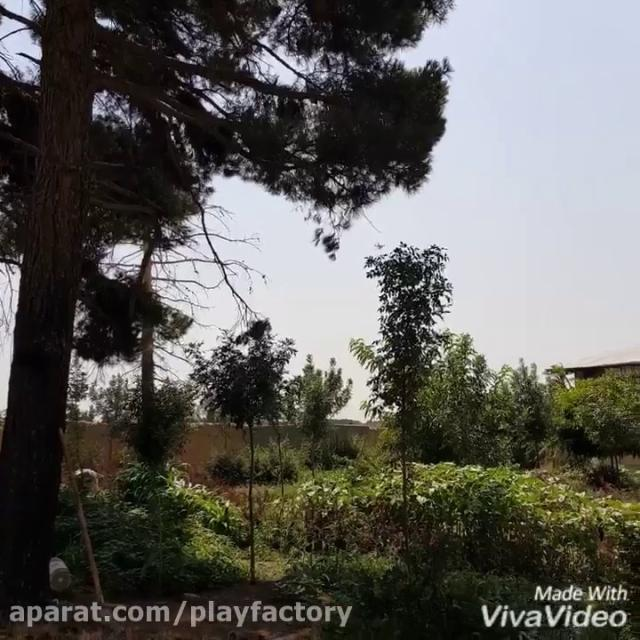drone: (368, 234, 390, 252)
